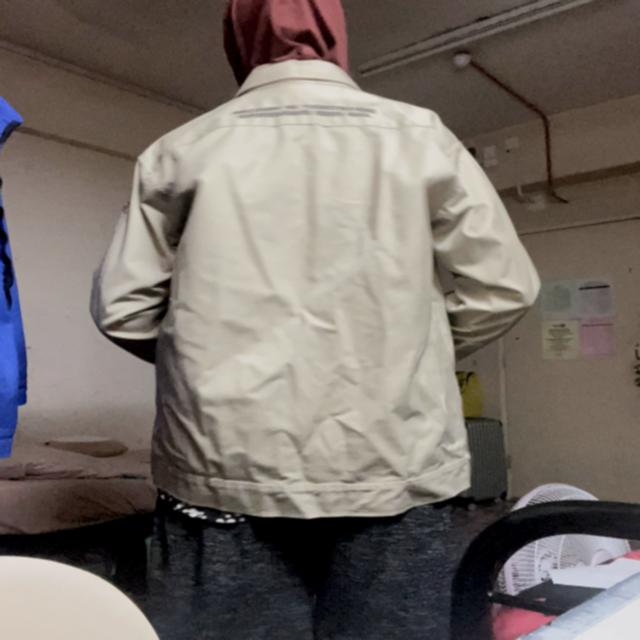person_without_labcoat: (91, 0, 539, 640)
